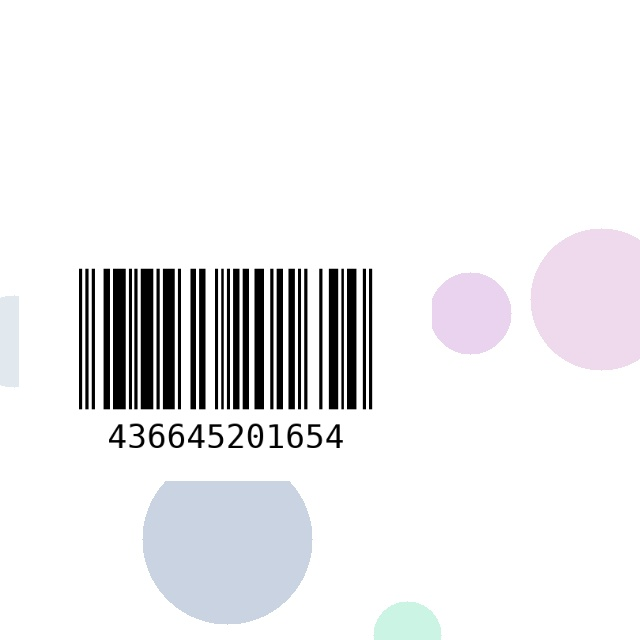barcode: (19, 260, 432, 481)
